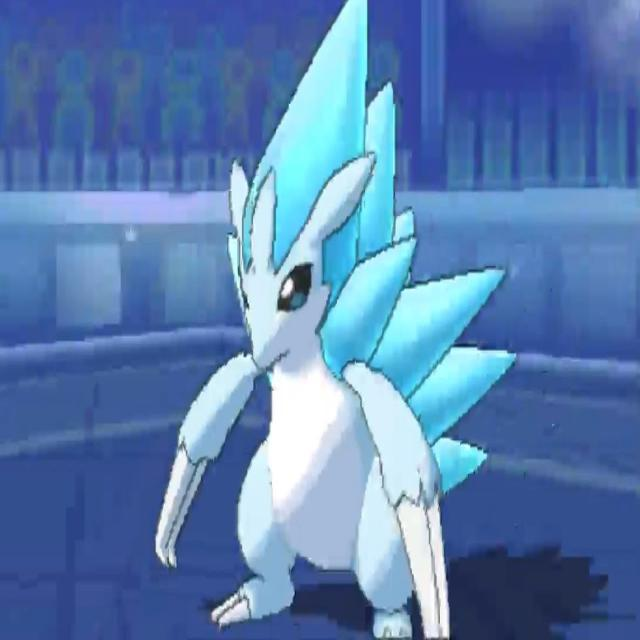Alolan: (180, 9, 486, 634)
